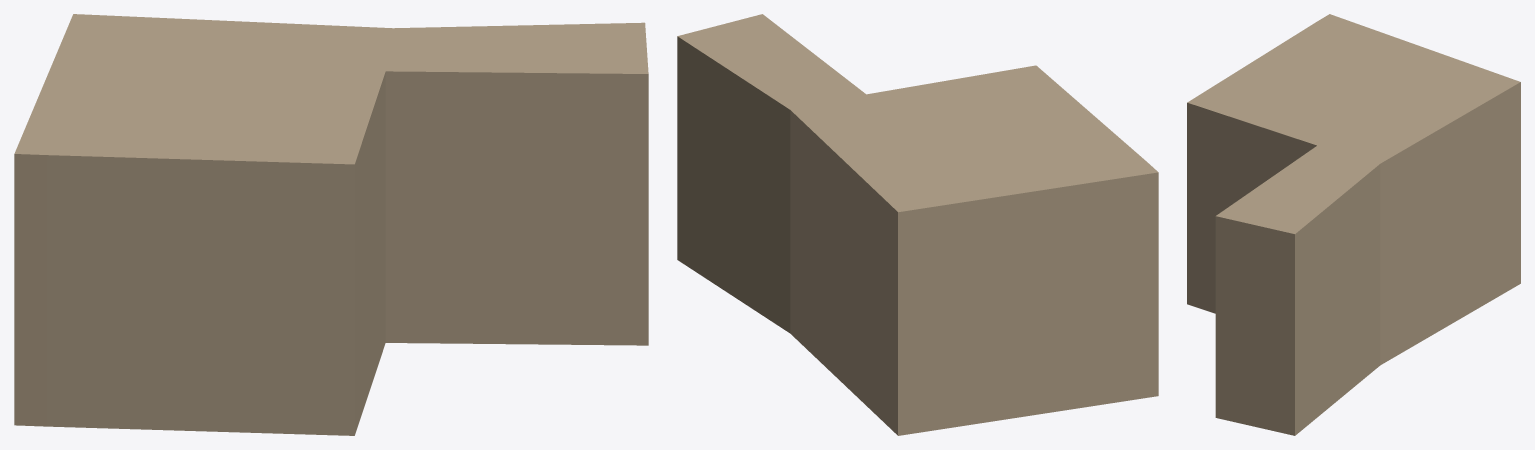
Rendered from bld_101791629.dae.
3 renders of one model, left to right at view 1: azimuth 30°, elevation 25°; view 2: azimuth 150°, elevation 25°; view 3: azimuth 270°, elevation 25°, orthographic. The views are drawn at different scales.
Visible parts, largest first — view 1: bld_101791629; view 2: bld_101791629; view 3: bld_101791629.
Boxes of the visible parts, x1,y1,x2,y2 form: bld_101791629: [14, 14, 648, 435]; bld_101791629: [677, 14, 1158, 435]; bld_101791629: [1187, 14, 1520, 435].
Bounding box in the file's own units: 18.73 × 11.99 × 8.
